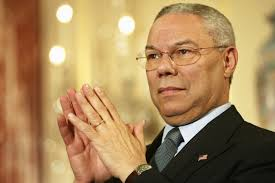black_male: (130, 5, 231, 127)
